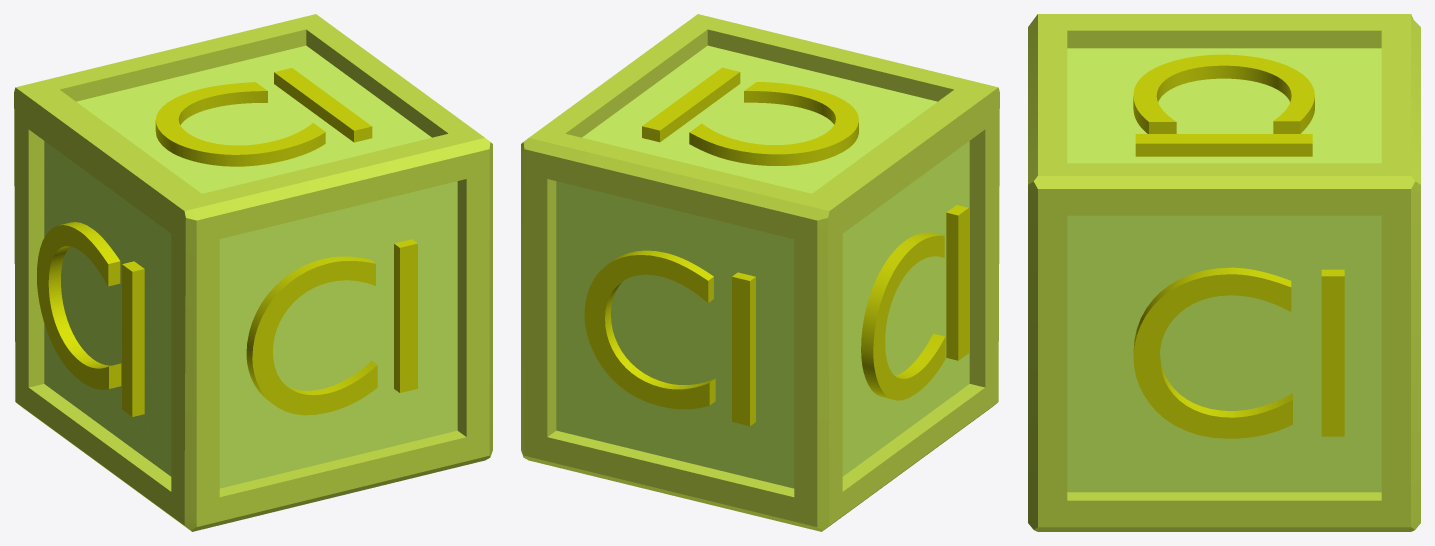
The model's file is Clorine.fbx.
3 views of the same model, side by side, from view 1: azimuth 30°, elevation 25°; view 2: azimuth 150°, elevation 25°; view 3: azimuth 270°, elevation 25° (orthographic). The views are drawn at different scales.
Visible parts, largest first — view 1: Cube.003; view 2: Cube.003; view 3: Cube.003.
Boxes of the visible parts, left/top/right/bottom form: Cube.003: left=14, top=14, right=492, bottom=531; Cube.003: left=521, top=14, right=999, bottom=531; Cube.003: left=1028, top=14, right=1420, bottom=531.
Size of the model in its own units: 87.38 by 84.32 by 84.32.
